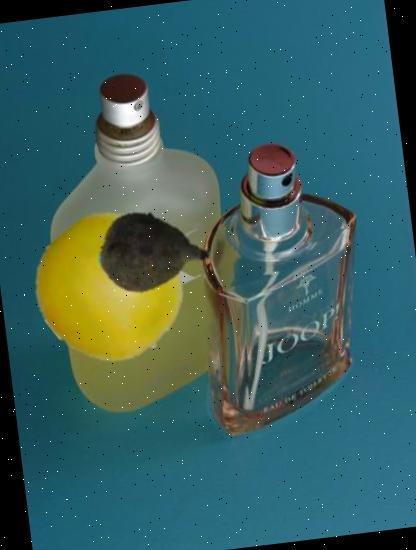Beetroot: (89, 185, 226, 322)
Grape: (30, 207, 193, 370)
